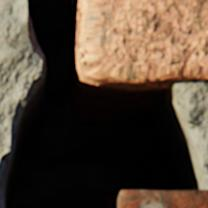brick: (79, 0, 207, 83), (119, 191, 207, 207)
crack: (0, 0, 207, 207)
